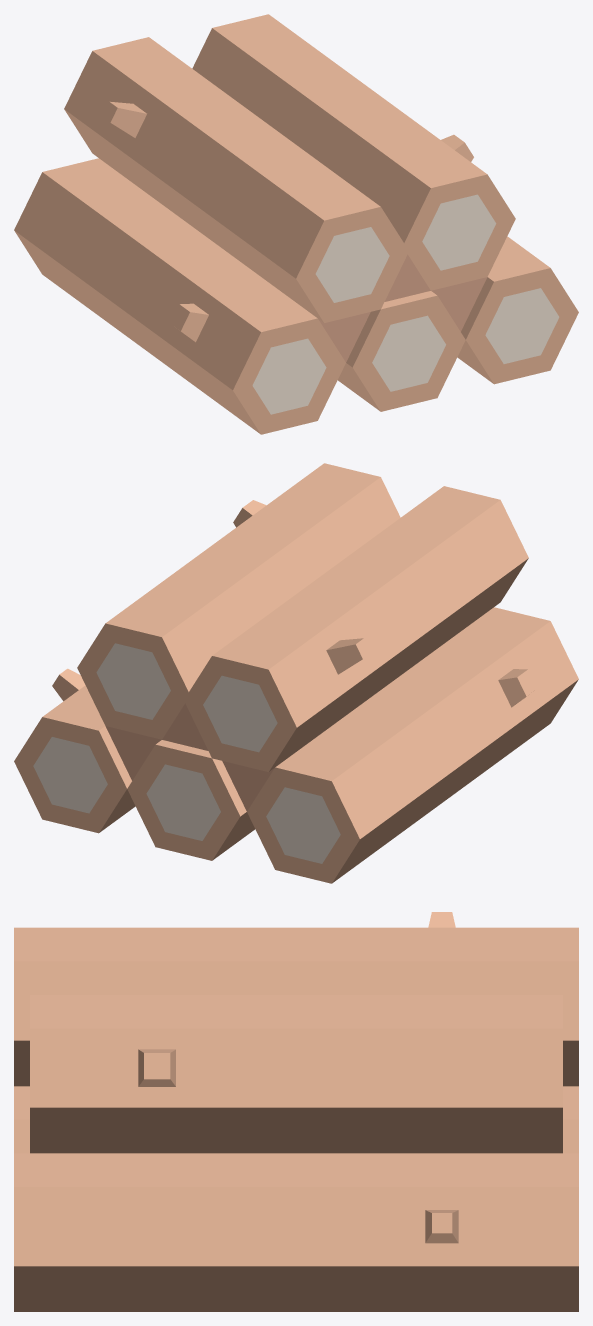
The picture shows the model from 3 angles, top to bottom: view 1: azimuth 30°, elevation 25°; view 2: azimuth 150°, elevation 25°; view 3: azimuth 270°, elevation 25°; orthographic projection. The views are drawn at different scales.
Parts seen in each view (by area): view 1: log_stackLarge; view 2: log_stackLarge; view 3: log_stackLarge.
Part boxes in pixels (<box>): log_stackLarge: <box>14,14,578,434</box>; log_stackLarge: <box>14,463,578,883</box>; log_stackLarge: <box>14,912,578,1311</box>.
Bounding box in the file's own units: 0.634 × 0.3464 × 0.71.
